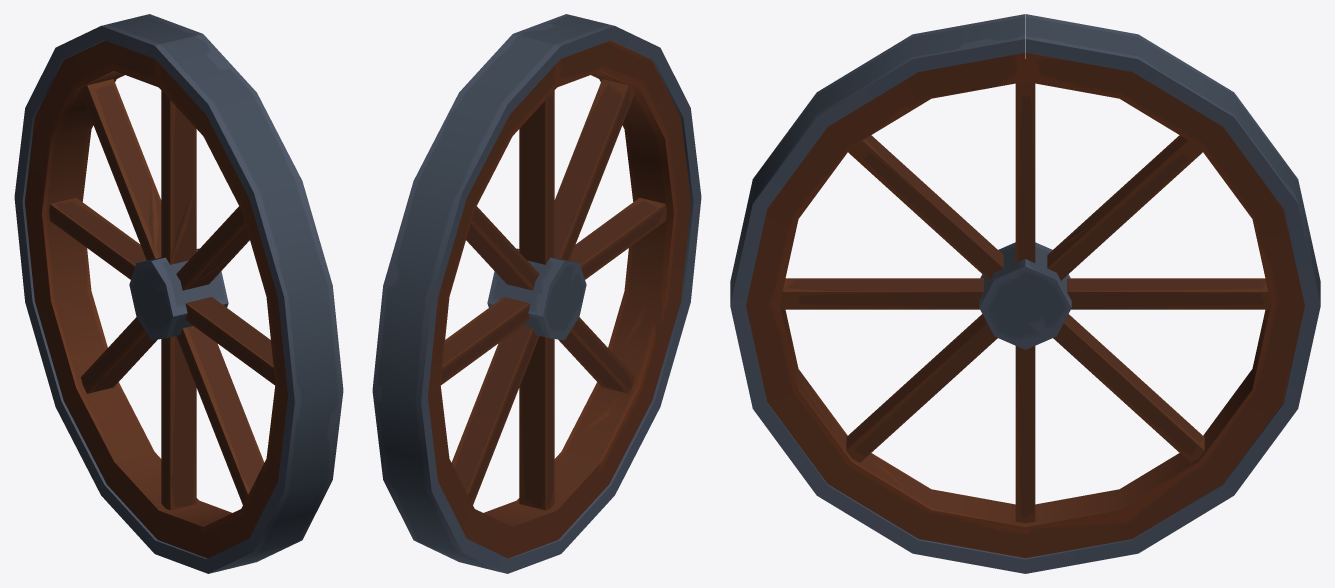
File: Wheel.fbx
The picture shows the model from 3 angles, left to right: view 1: azimuth 30°, elevation 25°; view 2: azimuth 150°, elevation 25°; view 3: azimuth 270°, elevation 25°; orthographic projection. The views are drawn at different scales.
Visible parts, largest first — view 1: Wheel; view 2: Wheel; view 3: Wheel.
Boxes of the visible parts, <box> form: Wheel: <box>14,14,343,573</box>; Wheel: <box>372,14,701,573</box>; Wheel: <box>730,14,1320,573</box>.
Bounding box in the file's own units: 14.73 × 129 × 129.
